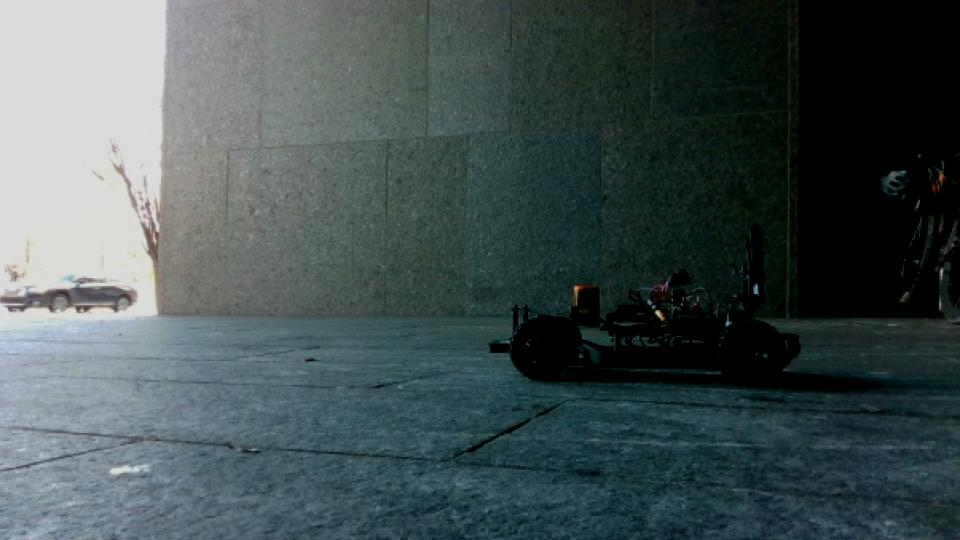car: (487, 222, 802, 388)
